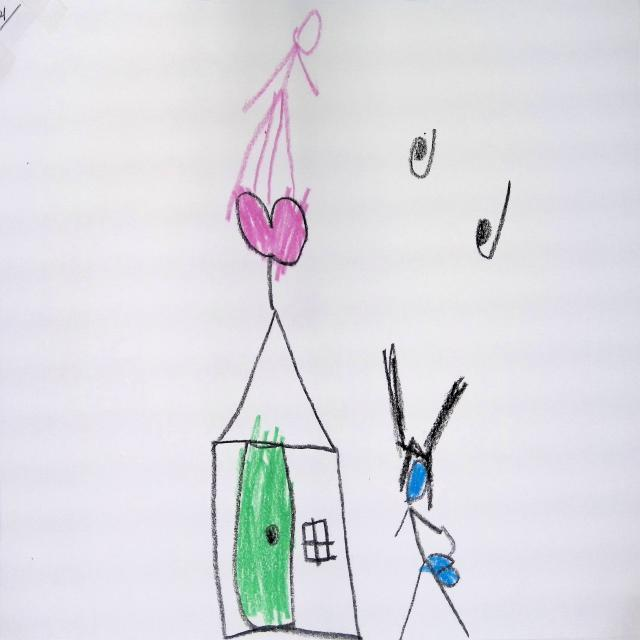door: (233, 442, 296, 631)
house: (211, 309, 362, 640)
roof: (213, 309, 339, 452)
wall: (209, 441, 361, 638)
window: (302, 515, 335, 566)
